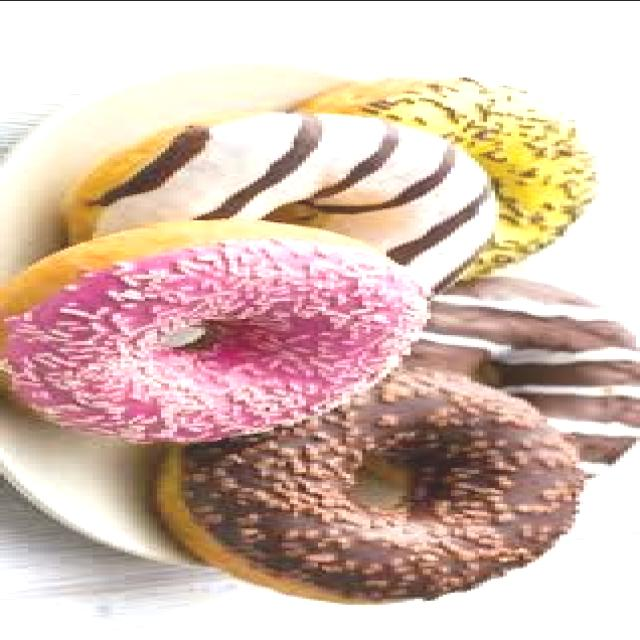donat: (157, 364, 588, 606), (0, 219, 427, 445)
